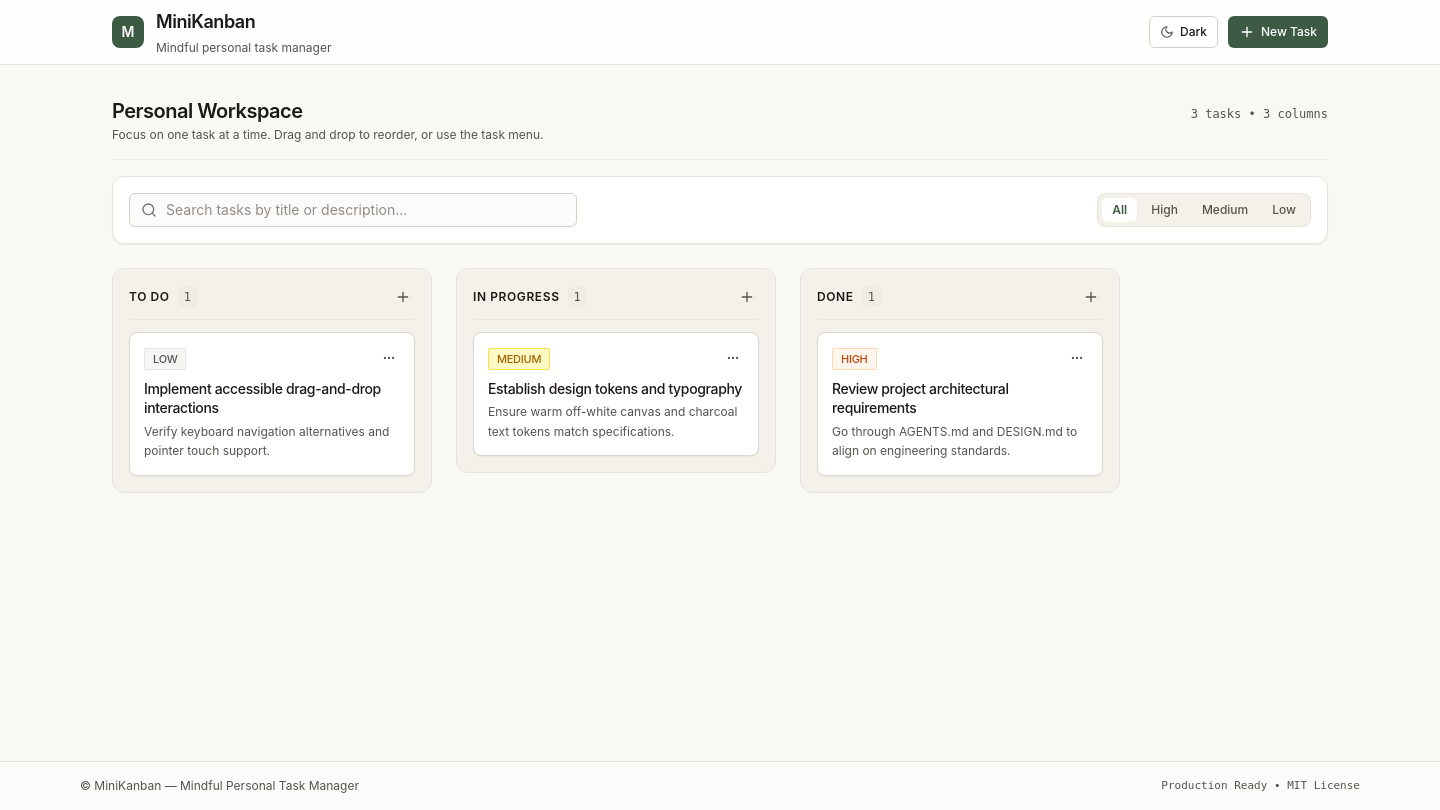
Test: App Integration › filters tasks by priority and displays notice when active
// Click "Low" priority button in filter toolbar
Click the button "Low" at (1284, 210), box [1262,198,1306,222]
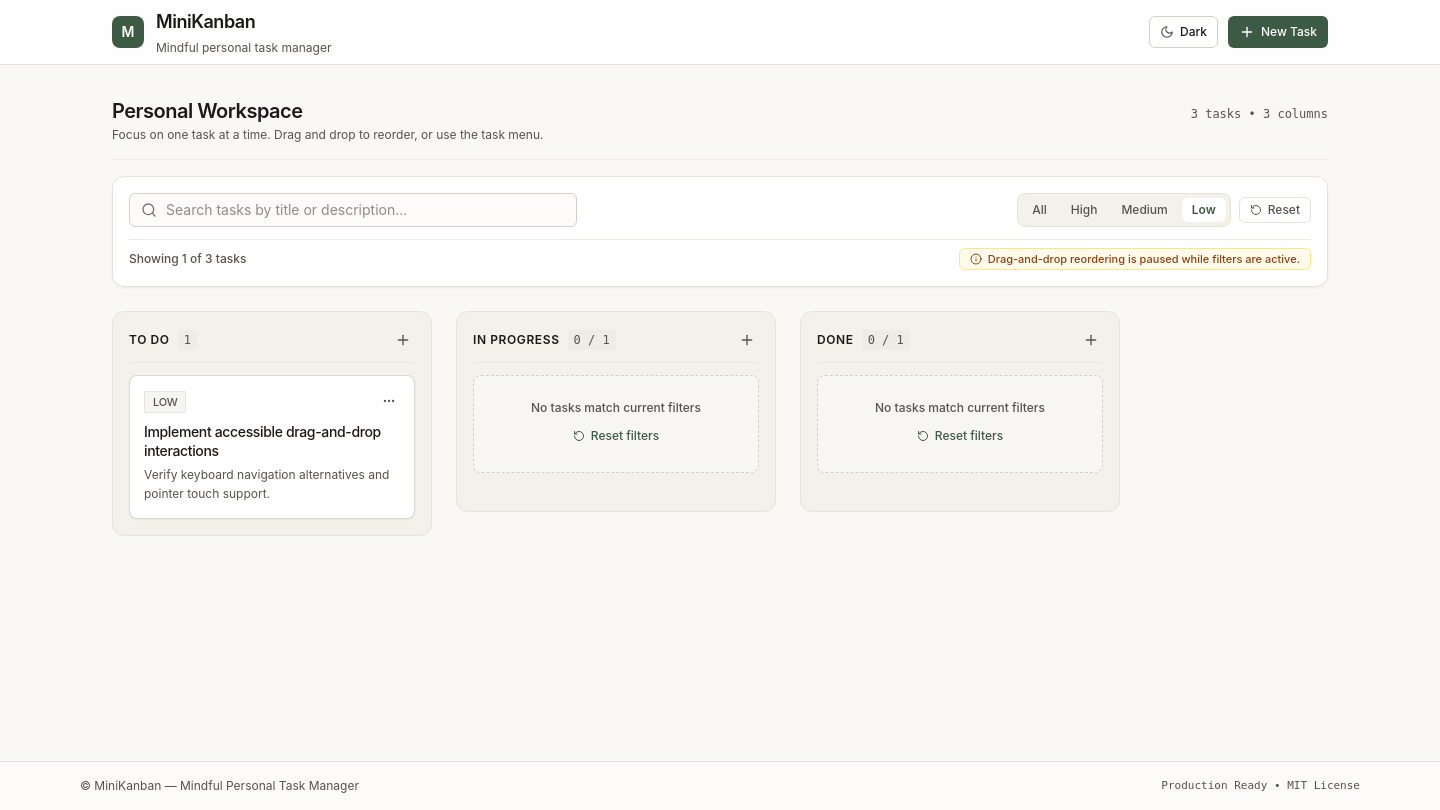
Expected: the heading "Implement accessible drag-and-drop interactions" is shown, [144,422,400,460]
Result: the heading "Review project architectural requirements" is gone
Result: the text "Drag-and-drop reordering is paused while filters are active." is shown at [988,251,1300,267]
// Click "Reset"
Click the button with aria-label "Reset all filters" at (1275, 210), box [1239,197,1311,223]
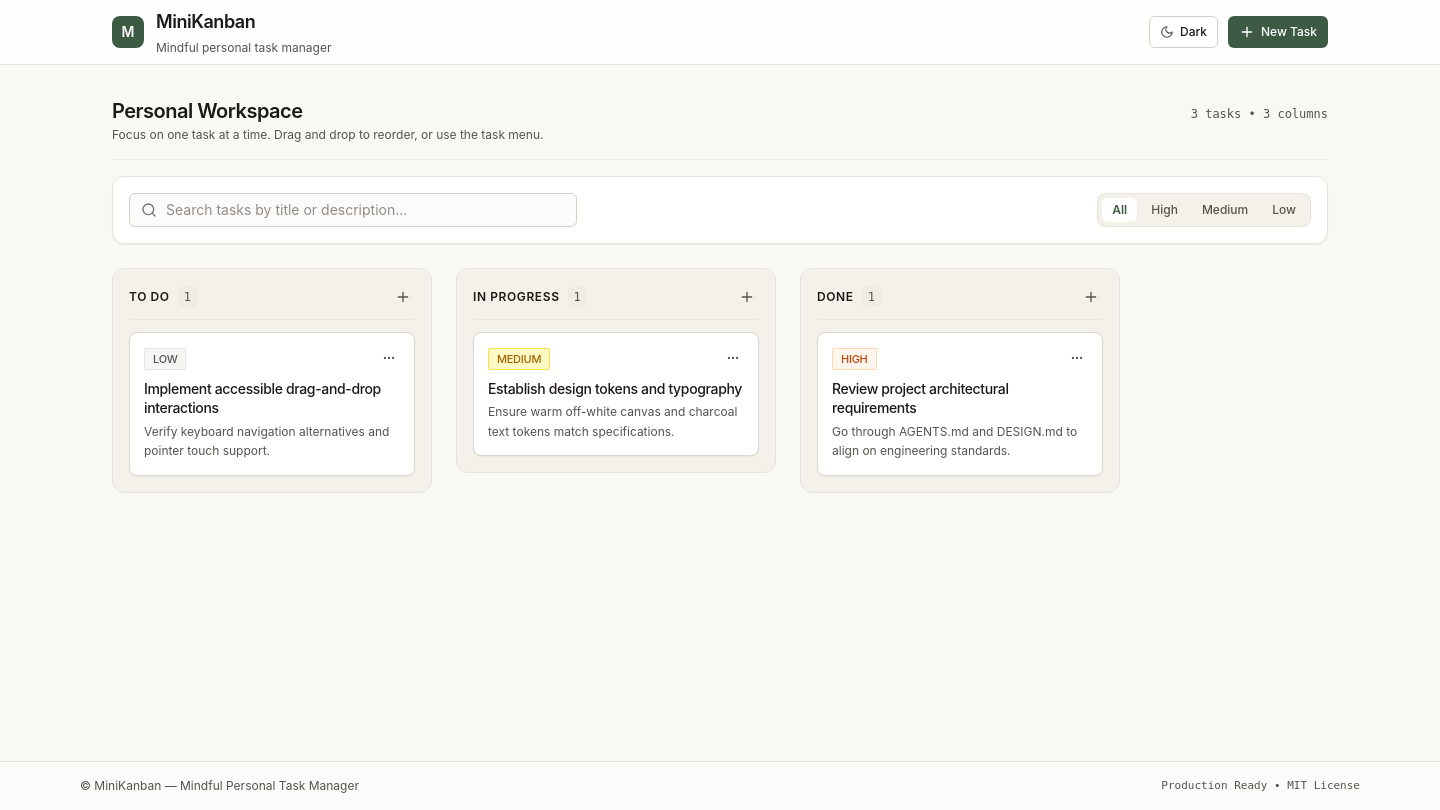
Result: the text "Drag-and-drop reordering is paused while filters are active" is gone
Result: the heading "Review project architectural requirements" is shown at [832,380,1009,416]
